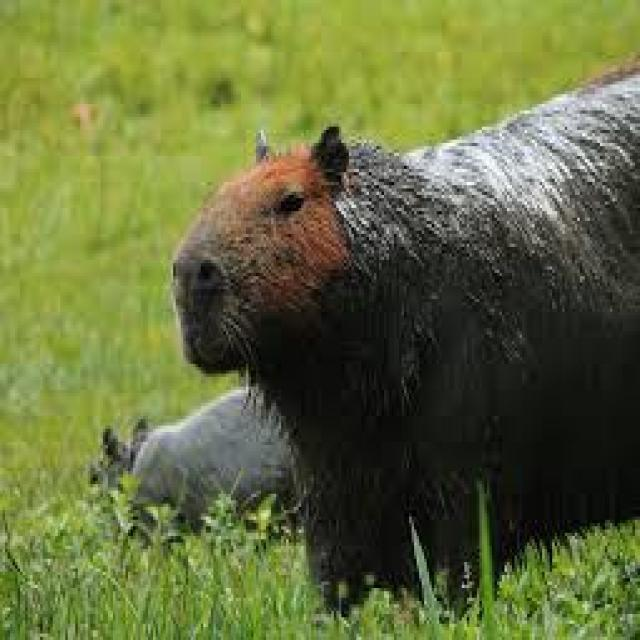capy: (165, 64, 640, 607)
